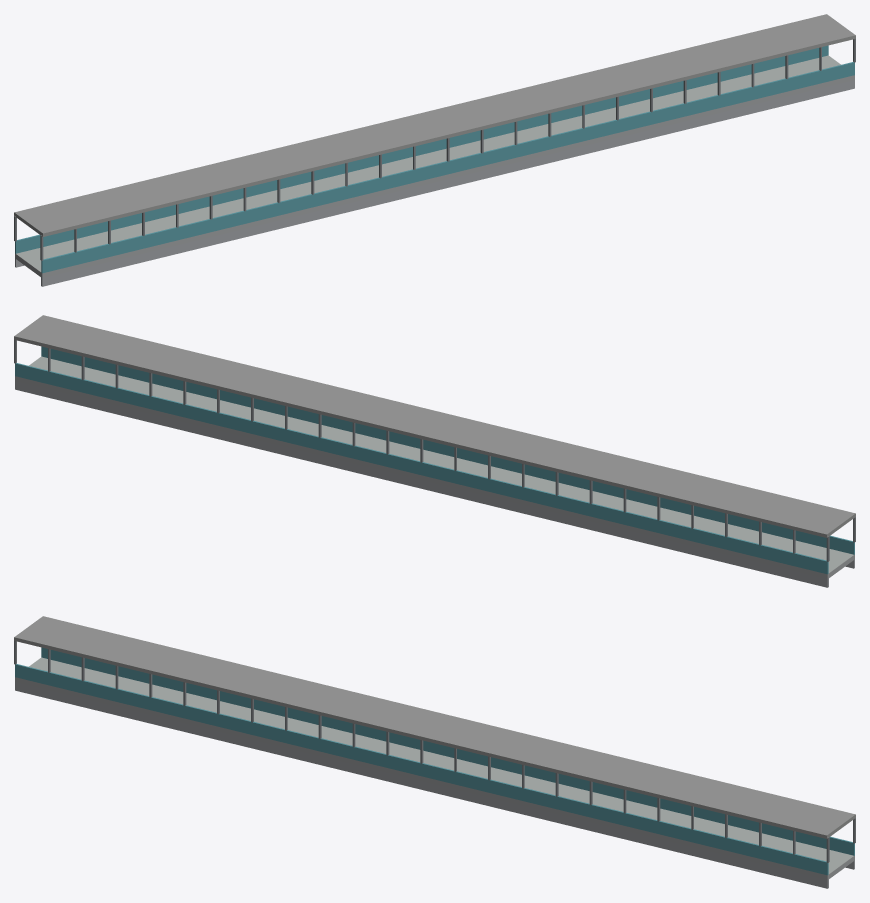
Rendered from hosp-bridge-60.zfix-v14.lod0.glb.
3 views of the same model, one above another, from view 1: azimuth 30°, elevation 25°; view 2: azimuth 150°, elevation 25°; view 3: azimuth 330°, elevation 25° (orthographic).
Visible parts, largest first — view 1: hosp-bridge-60; view 2: hosp-bridge-60; view 3: hosp-bridge-60.
Boxes of the visible parts, <box> form: hosp-bridge-60: <box>14,14,855,286</box>; hosp-bridge-60: <box>14,315,855,587</box>; hosp-bridge-60: <box>14,616,855,888</box>.
Size of the model in its own units: 60.12 by 3.8 by 3.7.
